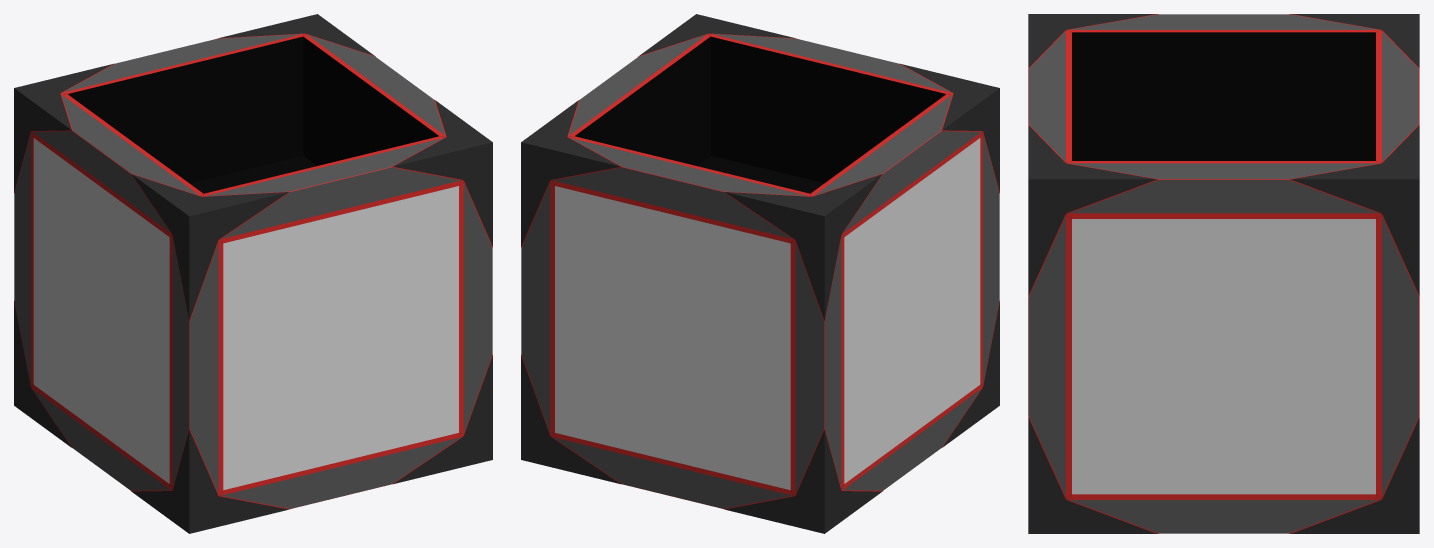
Rendered from voidPlatform.fbx.
3 views of the same model, side by side, from view 1: azimuth 30°, elevation 25°; view 2: azimuth 150°, elevation 25°; view 3: azimuth 270°, elevation 25° (orthographic). The views are drawn at different scales.
Visible parts, largest first — view 1: Cube; view 2: Cube; view 3: Cube.
Boxes of the visible parts, x1,y1,x2,y2 form: Cube: (14, 14, 492, 533); Cube: (521, 14, 999, 533); Cube: (1028, 14, 1419, 533).
Bounding box in the file's own units: 200 × 200 × 200.
